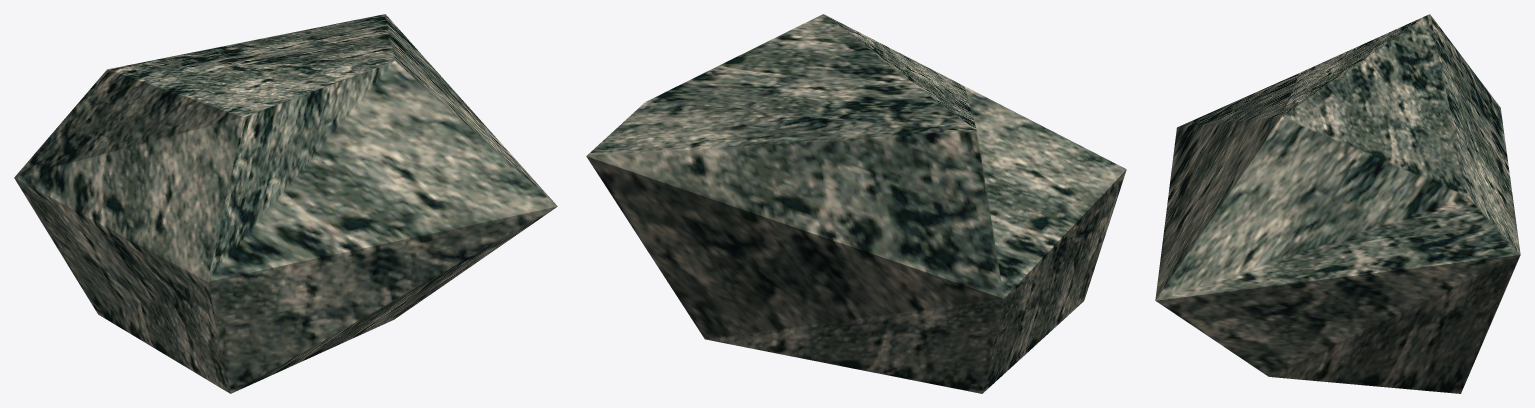
File: WKRock7.fbx
3 renders of one model, left to right at view 1: azimuth 30°, elevation 25°; view 2: azimuth 150°, elevation 25°; view 3: azimuth 270°, elevation 25°, orthographic. The views are drawn at different scales.
Visible parts, largest first — view 1: WKROCK7; view 2: WKROCK7; view 3: WKROCK7.
Boxes of the visible parts, x1=… form: WKROCK7: x1=14, y1=14, x2=557, y2=393; WKROCK7: x1=586, y1=14, x2=1126, y2=393; WKROCK7: x1=1155, y1=14, x2=1520, y2=393.
Size of the model in its own units: 43.05 by 26.86 by 33.72.
